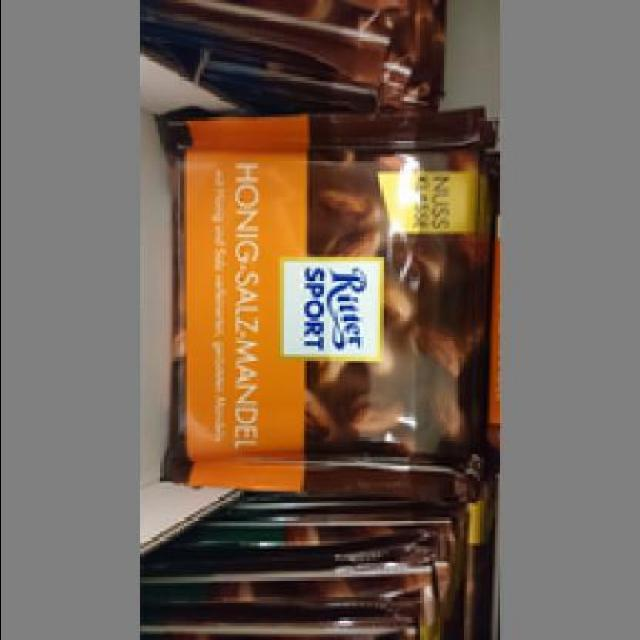Chocolate bar: (163, 103, 491, 494)
